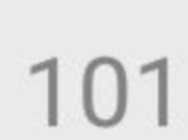TextView: (1, 1, 187, 139)
